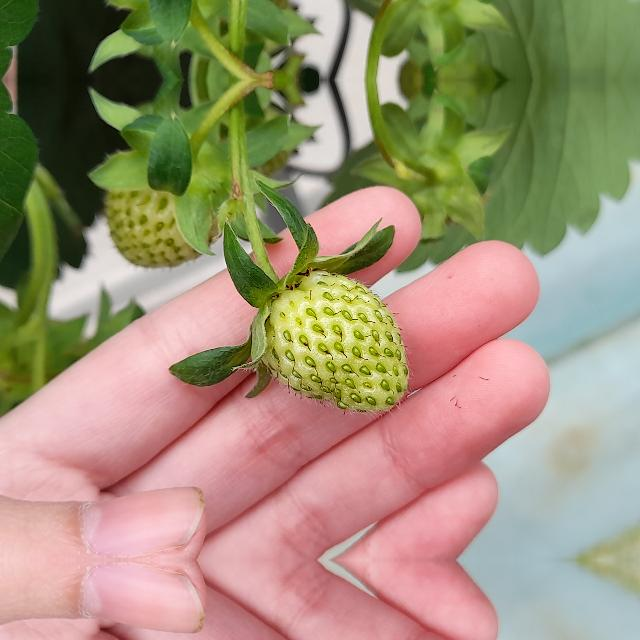Health_25: (260, 270, 408, 412), (106, 144, 222, 268)
